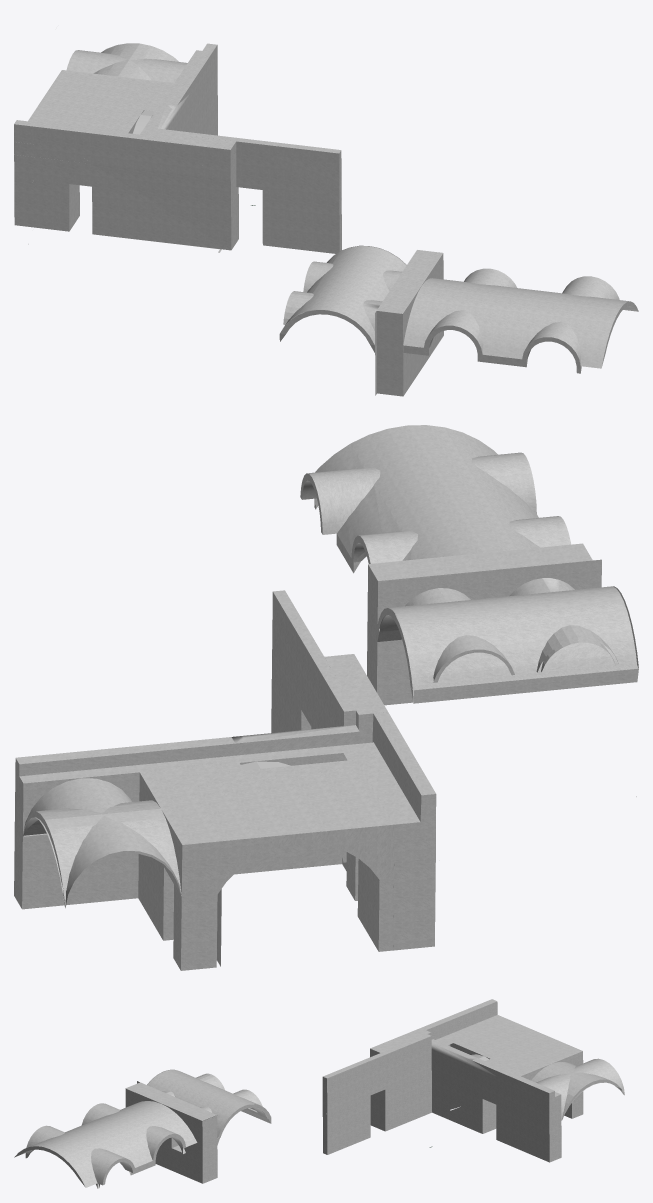
Rendered from steny_vnitrni.gltf.
3 views of the same model, one above another, from view 1: azimuth 30°, elevation 25°; view 2: azimuth 150°, elevation 25°; view 3: azimuth 270°, elevation 25° (orthographic). The views are drawn at different scales.
Visible parts, largest first — view 1: root; view 2: root; view 3: root.
Boxes of the visible parts, box(x1,y1,x2,y2) form: root: box(14, 43, 638, 396); root: box(14, 425, 638, 970); root: box(14, 999, 624, 1188).
Bounding box in the file's own units: 14.7 × 4.49 × 25.44.
4 materials, 2 textured.
